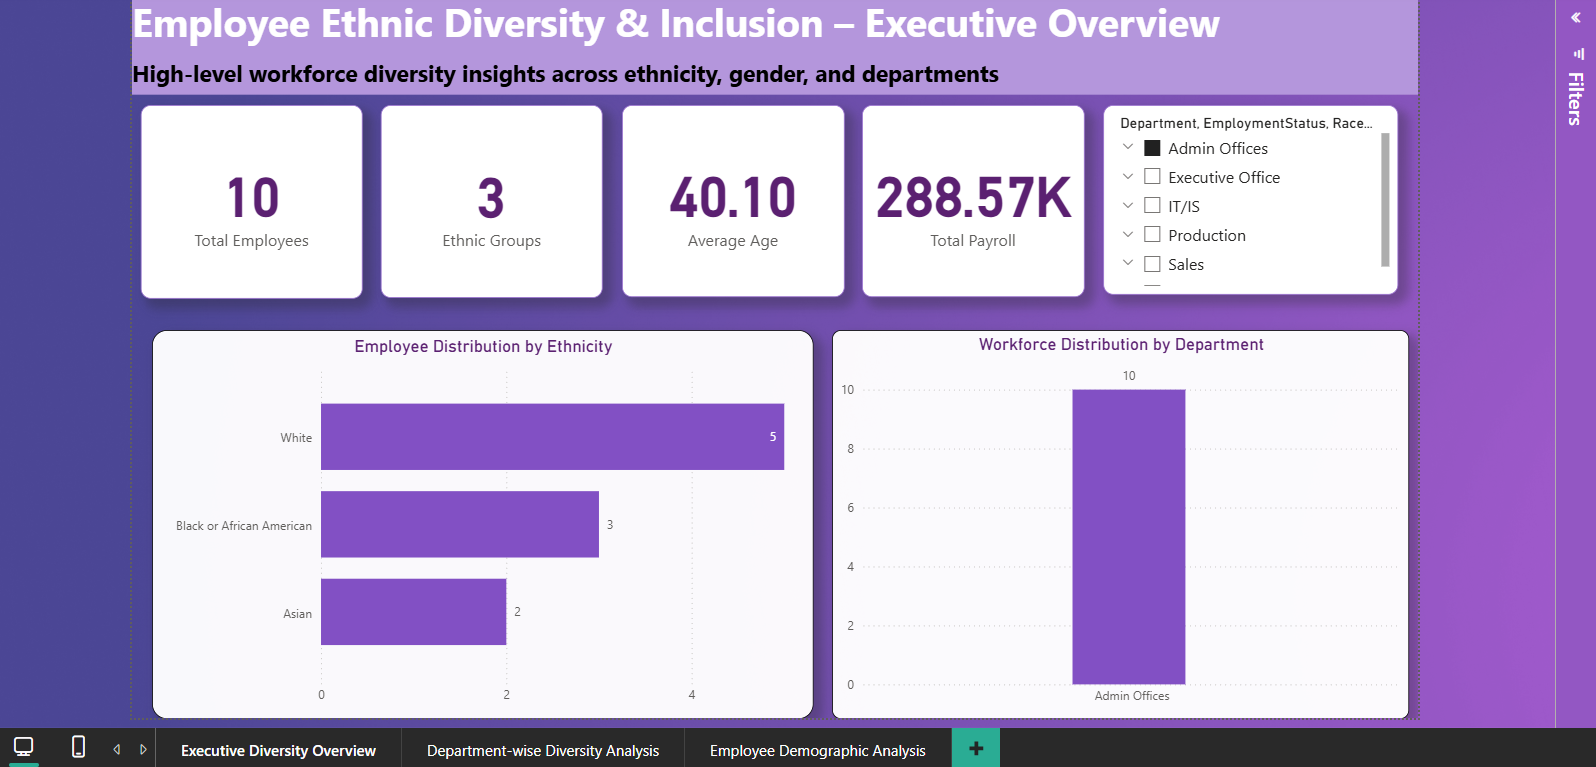

This screenshot's page, from the dashboard's own definition file:
{"tool":"powerbi","page":{"name":"Executive Diversity Overview","canvas":[1280,720],"ordinal":0},"visuals":[{"type":"slicer","fields":{"Values":["ethnic diversity.Department","ethnic diversity.EmploymentStatus","ethnic diversity.Race","ethnic diversity.Sex"]},"box":[966.6,109.5,293.6,189.1],"z":0},{"type":"card","fields":{"Values":["ethnic diversity.Total Employees"]},"box":[8.7,109.5,221,192.8],"z":1000},{"type":"card","fields":{"Values":["ethnic diversity.Race Count"]},"box":[248,109.5,221,192],"z":2000},{"type":"card","fields":{"Values":["ethnic diversity.Average Age"]},"box":[487.2,109.5,221.4,191.6],"z":3000},{"type":"card","fields":{"Values":["ethnic diversity.Total Salaries"]},"box":[726.9,109.5,221.4,191.6],"z":4000},{"type":"clusteredBarChart","title":"Employee Distribution by Ethnicity","fields":{"Category":["ethnic diversity.Race"],"Y":["CountNonNull(ethnic diversity.EmpID)"]},"box":[19.9,333.4,658.1,386.9],"z":5000},{"type":"clusteredColumnChart","title":"Workforce Distribution by Department","fields":{"Category":["ethnic diversity.Department"],"Y":["CountNonNull(ethnic diversity.EmpID)"]},"box":[696.6,333.4,574.7,386.9],"z":6000},{"type":"shape","title":"Employee Ethnic Diversity & Inclusion – Executive Overview","box":[0,0,1280,99.5],"z":8000}]}

Visuals, with their boxes in screenshot pixels (x1, y1, x2, y2):
slicer - ethnic diversity.Department x ethnic diversity.EmploymentStatus: pyautogui.locateOnScreen(1102, 99, 1401, 291)
card - ethnic diversity.Total Employees: pyautogui.locateOnScreen(129, 99, 354, 295)
card - ethnic diversity.Race Count: pyautogui.locateOnScreen(372, 99, 597, 294)
card - ethnic diversity.Average Age: pyautogui.locateOnScreen(615, 99, 840, 293)
card - ethnic diversity.Total Salaries: pyautogui.locateOnScreen(859, 99, 1084, 293)
"Employee Distribution by Ethnicity" clusteredBarChart: pyautogui.locateOnScreen(141, 326, 809, 719)
"Workforce Distribution by Department" clusteredColumnChart: pyautogui.locateOnScreen(828, 326, 1412, 719)
"Employee Ethnic Diversity & Inclusion – Executive Overview" shape: pyautogui.locateOnScreen(121, 0, 1421, 89)
